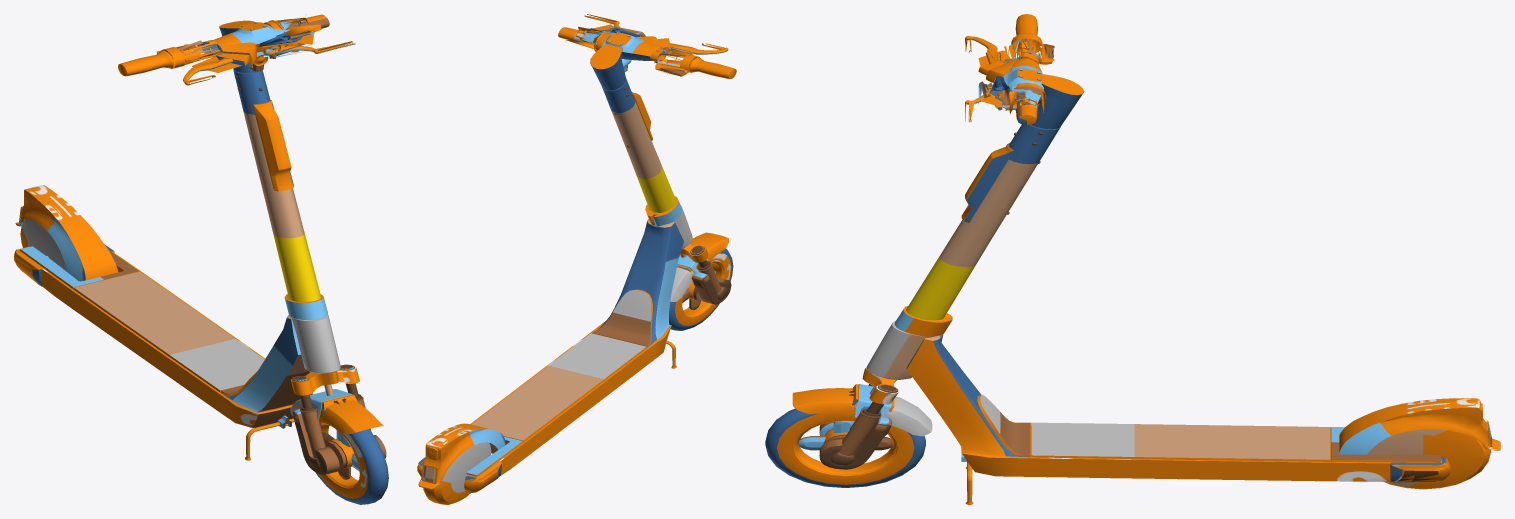
File: scotter.fbx
3 views of the same model, side by side, from view 1: azimuth 30°, elevation 25°; view 2: azimuth 150°, elevation 25°; view 3: azimuth 270°, elevation 25° (orthographic). The views are drawn at different scales.
Visible parts, largest first — view 1: scotter; view 2: scotter; view 3: scotter.
Boxes of the visible parts, x1,y1,x2,y2 form: scotter: (14,14,388,504); scotter: (417,14,736,504); scotter: (765,14,1500,504).
Bounding box in the file's own units: 64.16 × 121 × 195.
